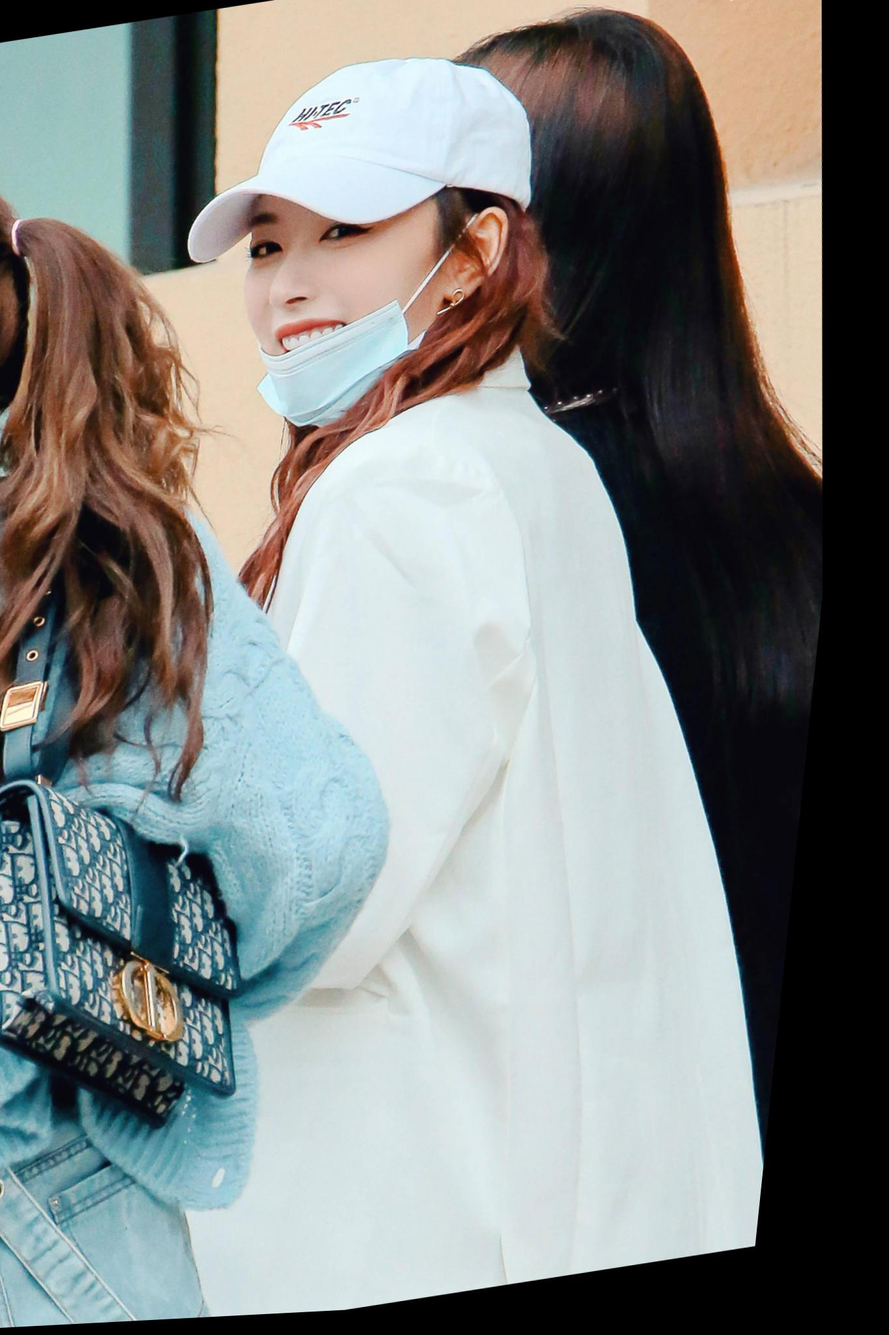WRONG: (229, 161, 456, 441)
